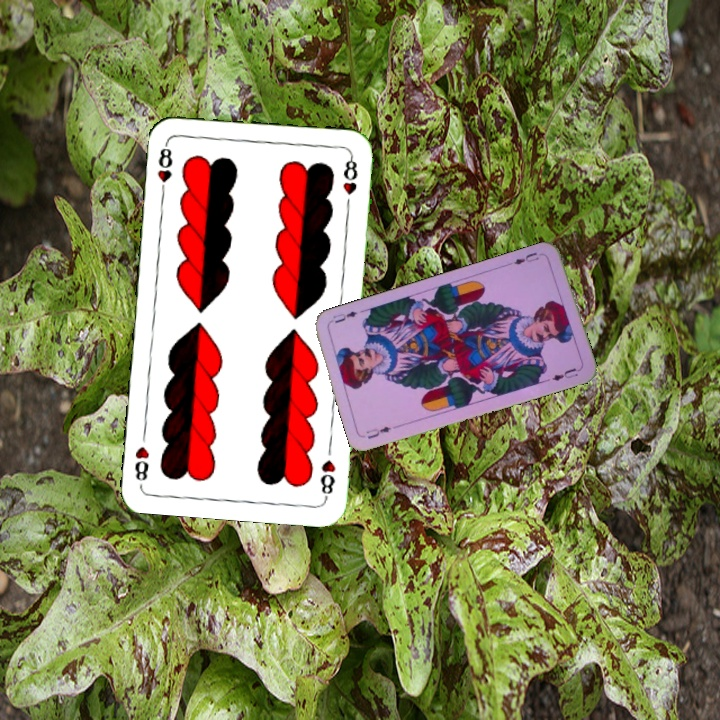EU: (505, 248, 542, 267), (362, 422, 393, 441)
H8: (154, 138, 175, 198), (316, 456, 338, 501)
